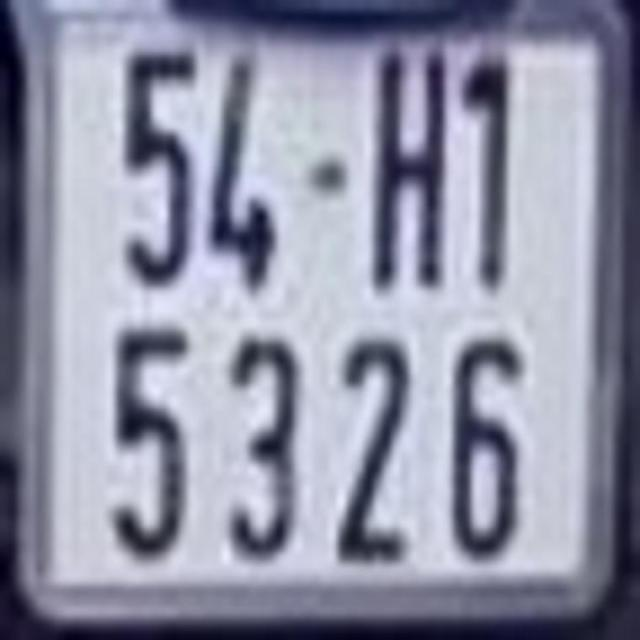1: (456, 48, 519, 291)
2: (332, 325, 407, 570)
3: (220, 326, 300, 566)
4: (202, 48, 286, 297)
5: (110, 320, 193, 565), (119, 38, 193, 288)
6: (444, 321, 529, 561)
H: (370, 56, 450, 289)
